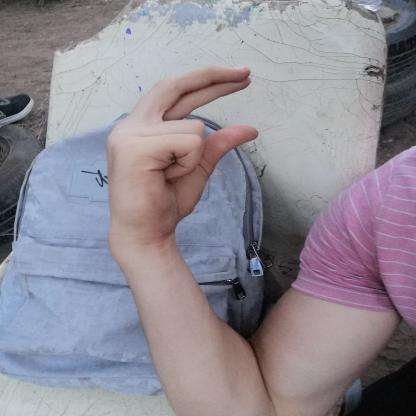DHELL: (90, 57, 267, 247)
